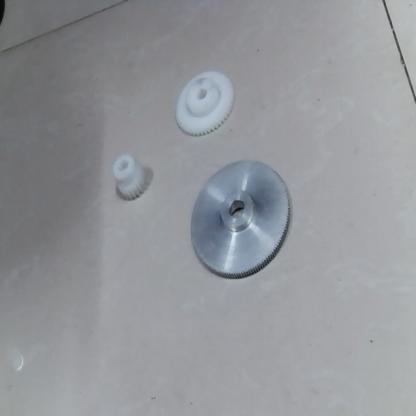FOD: (187, 154, 293, 280), (176, 72, 237, 138), (111, 149, 147, 205)
